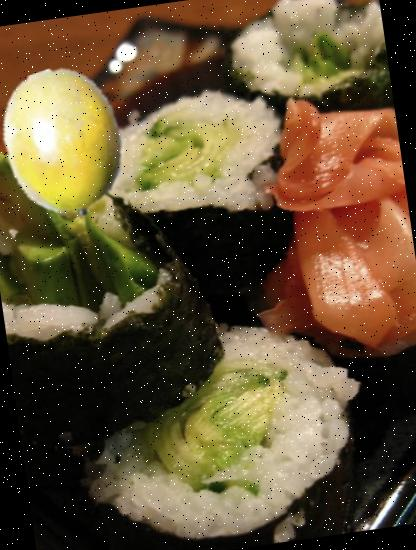Maracuja: (0, 58, 148, 227)
